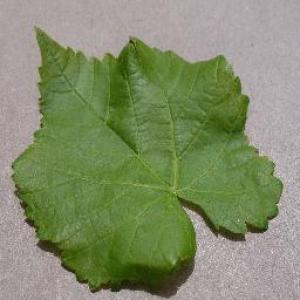Folha: (10, 23, 284, 293)
